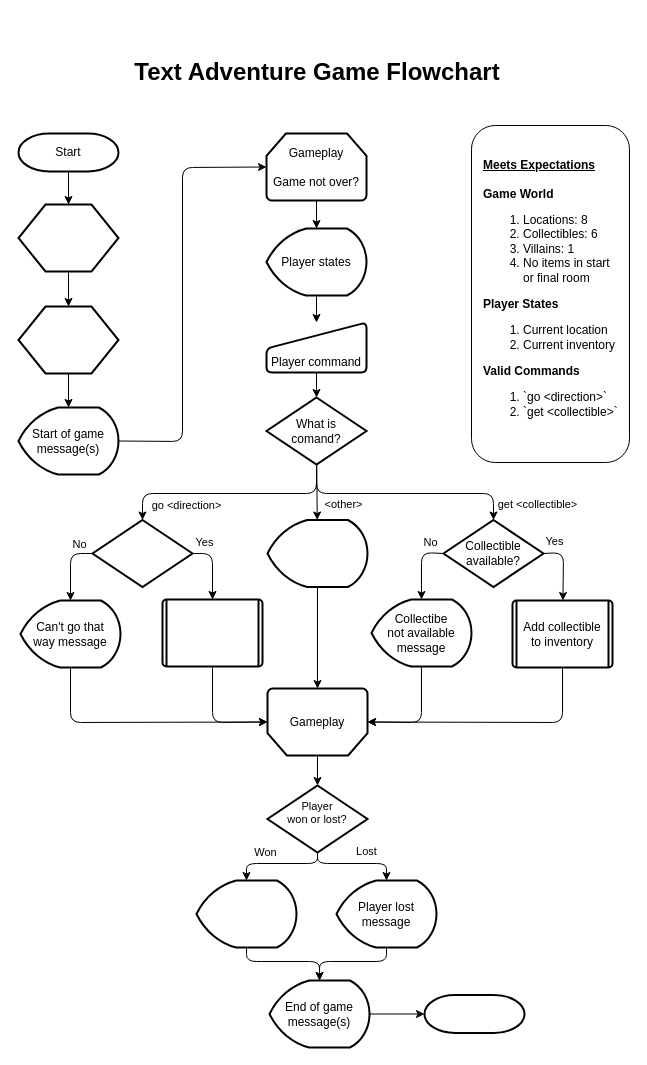
Some shapes in this 647 by 1065 pixel diagram are drawn without their labels. Each missing label, with the centre of its shape:
Direction available?: point 142,553
End: point 474,1014
Initialize game world: point 68,237
Initialize player states: point 68,339
Invalid command message: point 317,553
Player won message: point 246,913
Update player's current location: point 212,632
